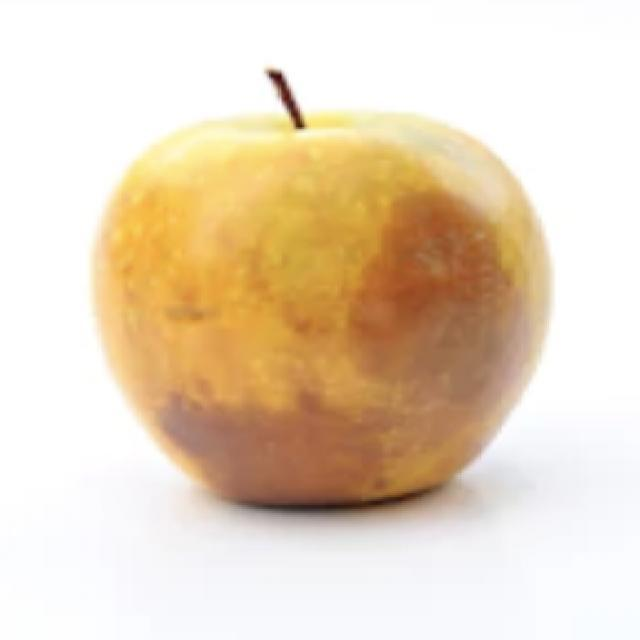Rotten: (106, 120, 552, 498)
